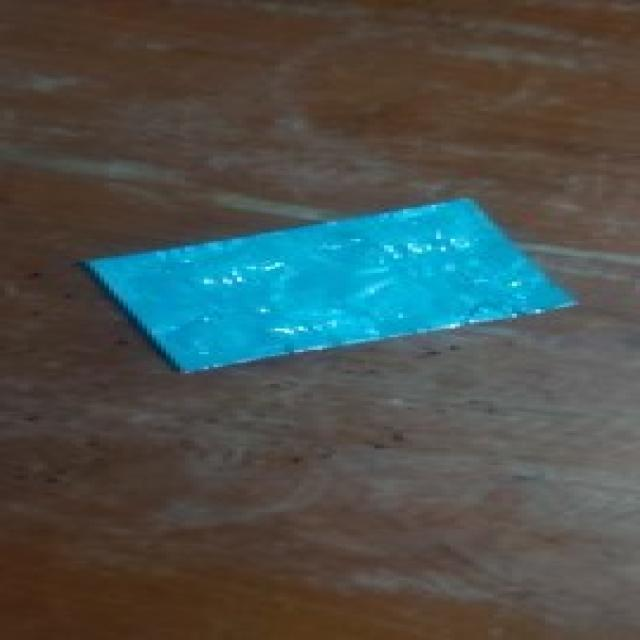Cacat: (82, 196, 586, 379)
